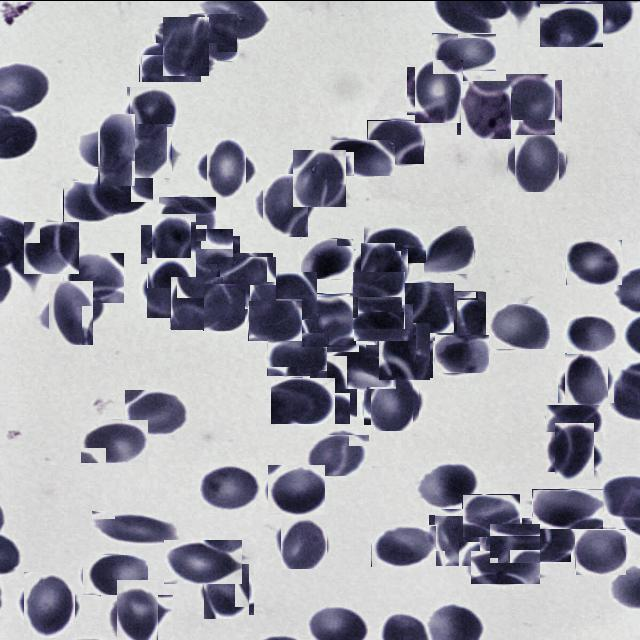red blood cell: (20, 574, 79, 633), (164, 539, 242, 583), (92, 510, 186, 546), (326, 343, 396, 388), (503, 76, 559, 132), (292, 150, 348, 206), (146, 218, 202, 274), (88, 121, 144, 177), (411, 62, 467, 118), (139, 41, 217, 81), (424, 290, 486, 340), (108, 586, 165, 640), (352, 270, 405, 328), (124, 388, 190, 434), (197, 462, 261, 509), (64, 252, 124, 302), (80, 418, 148, 462), (91, 166, 153, 214), (377, 324, 432, 378), (24, 220, 80, 273), (271, 377, 335, 423), (258, 178, 312, 232), (302, 292, 356, 346), (143, 260, 197, 314), (44, 286, 98, 340), (268, 464, 325, 514), (532, 488, 603, 528), (489, 303, 552, 348), (258, 272, 317, 320), (540, 2, 604, 46), (159, 19, 212, 72), (171, 276, 224, 328), (418, 463, 479, 508), (304, 433, 369, 475), (371, 524, 436, 566), (128, 84, 180, 136), (222, 254, 274, 306), (400, 282, 454, 332), (84, 554, 150, 594), (202, 142, 252, 194), (432, 512, 484, 562), (512, 136, 562, 188), (325, 138, 395, 175), (566, 238, 622, 284), (160, 196, 218, 240), (184, 12, 237, 60), (367, 119, 424, 163), (561, 355, 611, 405), (202, 566, 252, 616), (267, 336, 331, 375), (462, 493, 520, 536), (432, 32, 496, 70), (367, 378, 416, 427), (424, 225, 474, 273), (550, 426, 598, 476), (364, 224, 426, 262), (126, 126, 175, 174), (575, 528, 626, 574), (280, 519, 328, 567), (546, 404, 603, 444), (471, 550, 540, 583), (306, 373, 354, 420), (248, 299, 302, 340), (358, 244, 404, 292), (354, 303, 413, 340), (300, 237, 353, 278), (522, 517, 571, 561), (63, 180, 114, 221), (435, 334, 489, 372), (567, 314, 618, 354), (489, 522, 540, 562), (192, 232, 236, 278), (203, 282, 245, 330)
ring: (459, 82, 514, 136)
